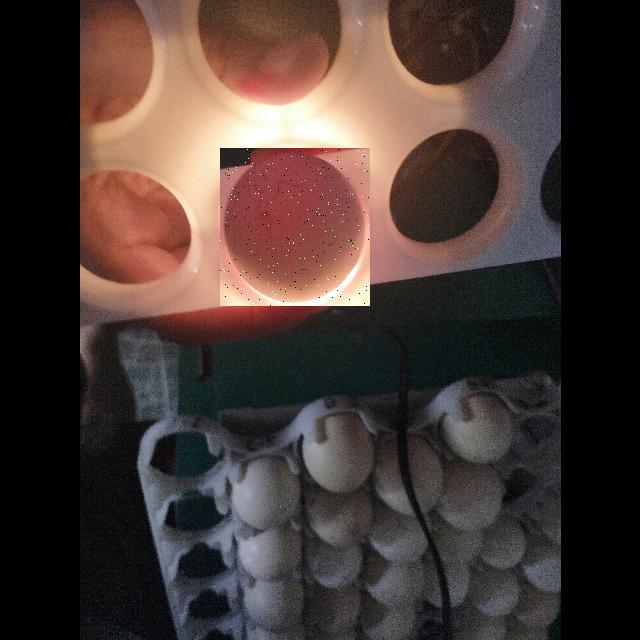Fertile: (220, 148, 370, 306)
